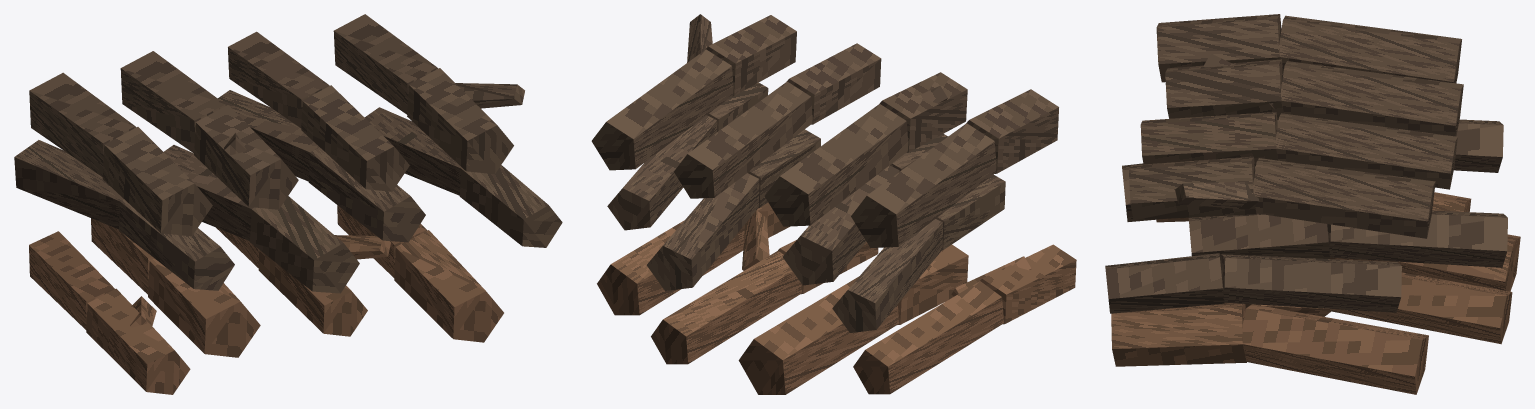
Rendered from f_stick_stack_short.glb.
3 renders of one model, left to right at view 1: azimuth 30°, elevation 25°; view 2: azimuth 150°, elevation 25°; view 3: azimuth 270°, elevation 25°, orthographic. The views are drawn at different scales.
Visible parts, largest first — view 1: block_stacked-stick-2 (×12), block_stacked-stick-1 (×12), block_short-fork-on-branch (×3); view 2: block_stacked-stick-1 (×12), block_stacked-stick-2 (×12), block_short-fork-on-branch (×3); view 3: block_stacked-stick-1 (×11), block_stacked-stick-2 (×8), block_short-fork-on-branch (×2).
Boxes of the visible parts, x1=… form: block_stacked-stick-2 (×12): x1=86, y1=68, x2=562, y2=394; block_stacked-stick-1 (×12): x1=14, y1=14, x2=461, y2=329; block_short-fork-on-branch (×3): x1=130, y1=83, x2=524, y2=327; block_stacked-stick-1 (×12): x1=591, y1=49, x2=1003, y2=394; block_stacked-stick-2 (×12): x1=705, y1=15, x2=1076, y2=324; block_short-fork-on-branch (×3): x1=687, y1=14, x2=1031, y2=296; block_stacked-stick-1 (×11): x1=1220, y1=15, x2=1520, y2=394; block_stacked-stick-2 (×8): x1=1105, y1=14, x2=1329, y2=366; block_short-fork-on-branch (×2): x1=1175, y1=181, x2=1333, y2=316.
Size of the model in its own units: 0.7747 by 0.4376 by 0.7131.
1 material, 1 textured.
